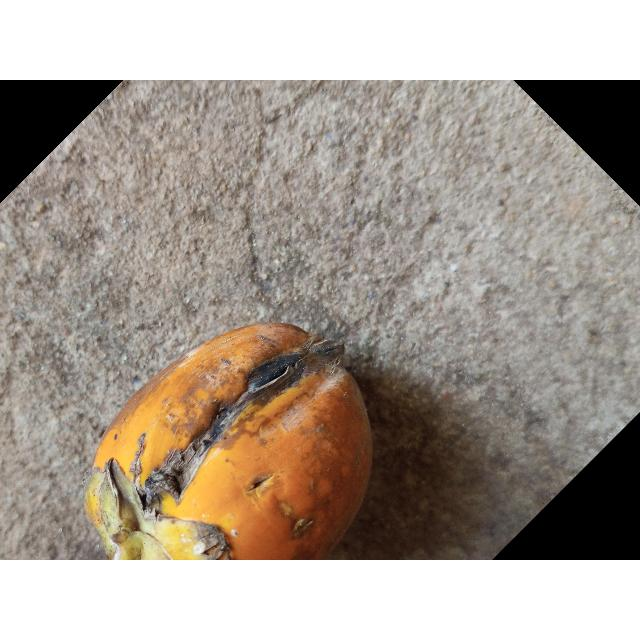damaged: (85, 323, 373, 560)
